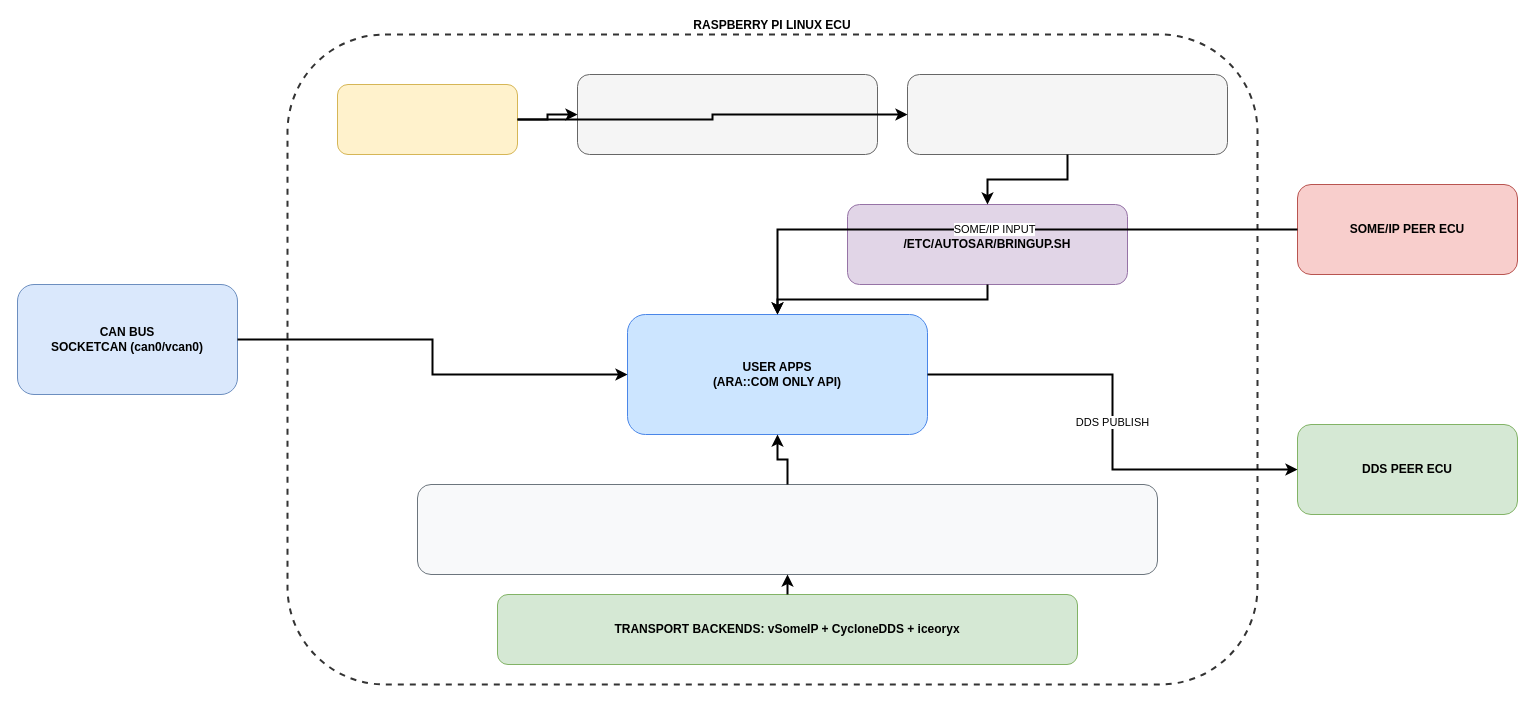
Image size: 1535x702. Some labels were removed from this diagram. Each missing label, with the box of its shape:
AUTOSAR AP RUNTIME LIBRARIES ara::core / ara::com / ara::exec / ara::diag / ...: (416, 484, 1158, 574)
AUTOSAR-EXEC-MANAGER.SERVICE: (906, 74, 1228, 154)
AUTOSAR-IOX-ROUDI.SERVICE: (576, 74, 878, 154)
SYSTEMD: (336, 84, 518, 154)
